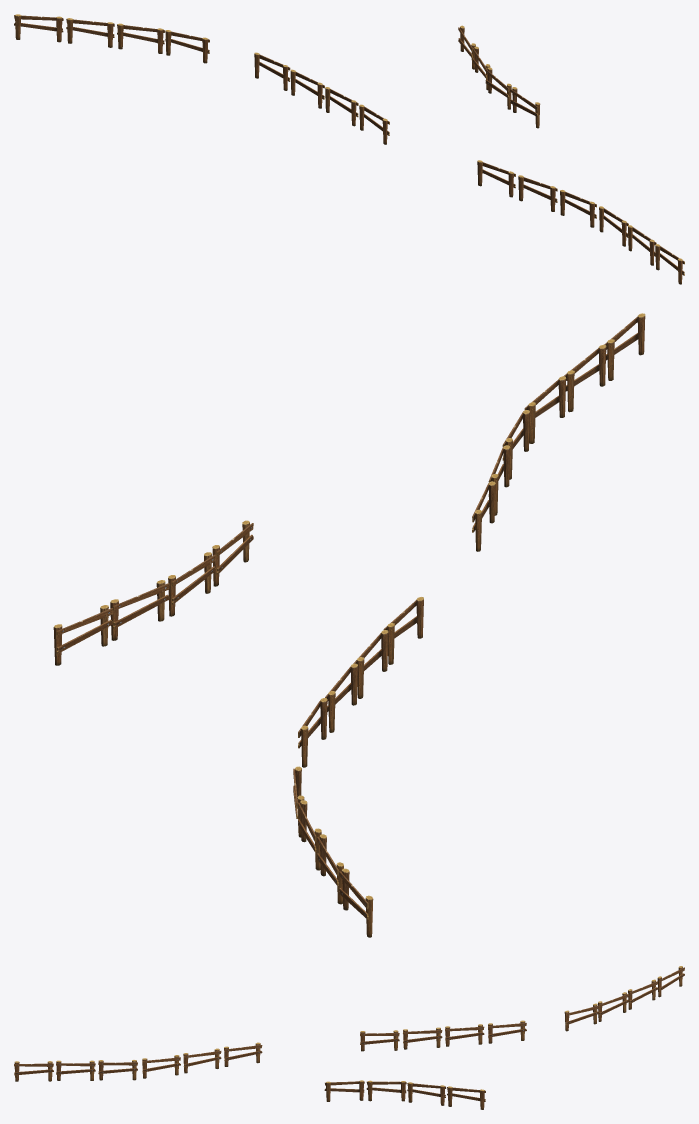
Rendered from Area_11_55.fbx.
3 renders of one model, top to bottom at view 1: azimuth 30°, elevation 25°; view 2: azimuth 150°, elevation 25°; view 3: azimuth 270°, elevation 25°, orthographic. The views are drawn at different scales.
Parts seen in each view (by area): view 1: Area_11_55; view 2: Area_11_55; view 3: Area_11_55.
Part boxes in pixels (<box>): Area_11_55: <box>14,14,684,284</box>; Area_11_55: <box>53,313,645,937</box>; Area_11_55: <box>14,966,684,1109</box>.
Bounding box in the file's own units: 1952 × 147 × 4392.
